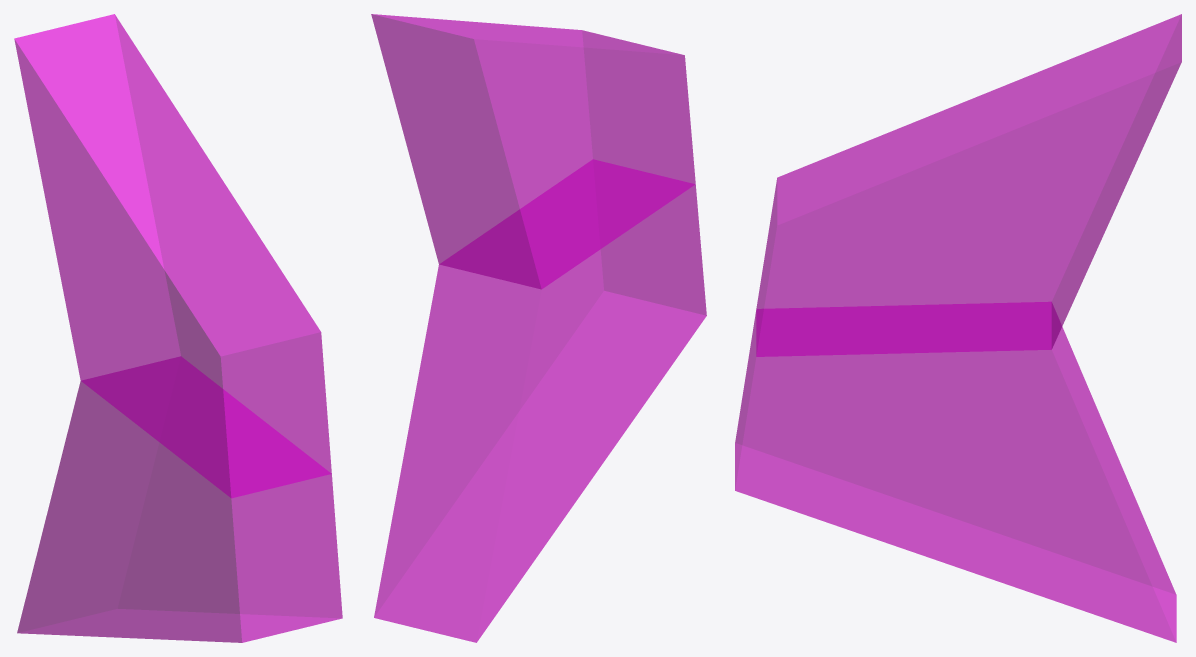
Rendered from SM_Veh_Ship_L_Rudder_02_Flap_Collision.fbx.
3 views of the same model, side by side, from view 1: azimuth 30°, elevation 25°; view 2: azimuth 150°, elevation 25°; view 3: azimuth 270°, elevation 25° (orthographic). The views are drawn at different scales.
Visible parts, largest first — view 1: SM_Veh_Ship_L_Rudder_02_Flap_Collision; view 2: SM_Veh_Ship_L_Rudder_02_Flap_Collision; view 3: SM_Veh_Ship_L_Rudder_02_Flap_Collision.
Part boxes in pixels (left/top/right/bottom): SM_Veh_Ship_L_Rudder_02_Flap_Collision: left=14, top=14, right=342, bottom=642; SM_Veh_Ship_L_Rudder_02_Flap_Collision: left=371, top=14, right=706, bottom=642; SM_Veh_Ship_L_Rudder_02_Flap_Collision: left=735, top=14, right=1181, bottom=642.
Size of the model in its own units: 129 by 730 by 508.
